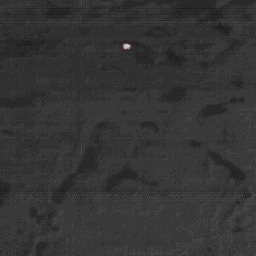Target: (122, 42, 131, 50)
